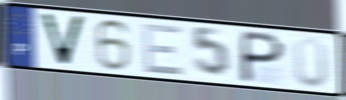0: (292, 35, 331, 89)
5: (190, 24, 234, 82)
6: (94, 17, 133, 73)
E: (140, 22, 186, 78)
P: (237, 29, 288, 85)
V: (37, 11, 88, 69)
